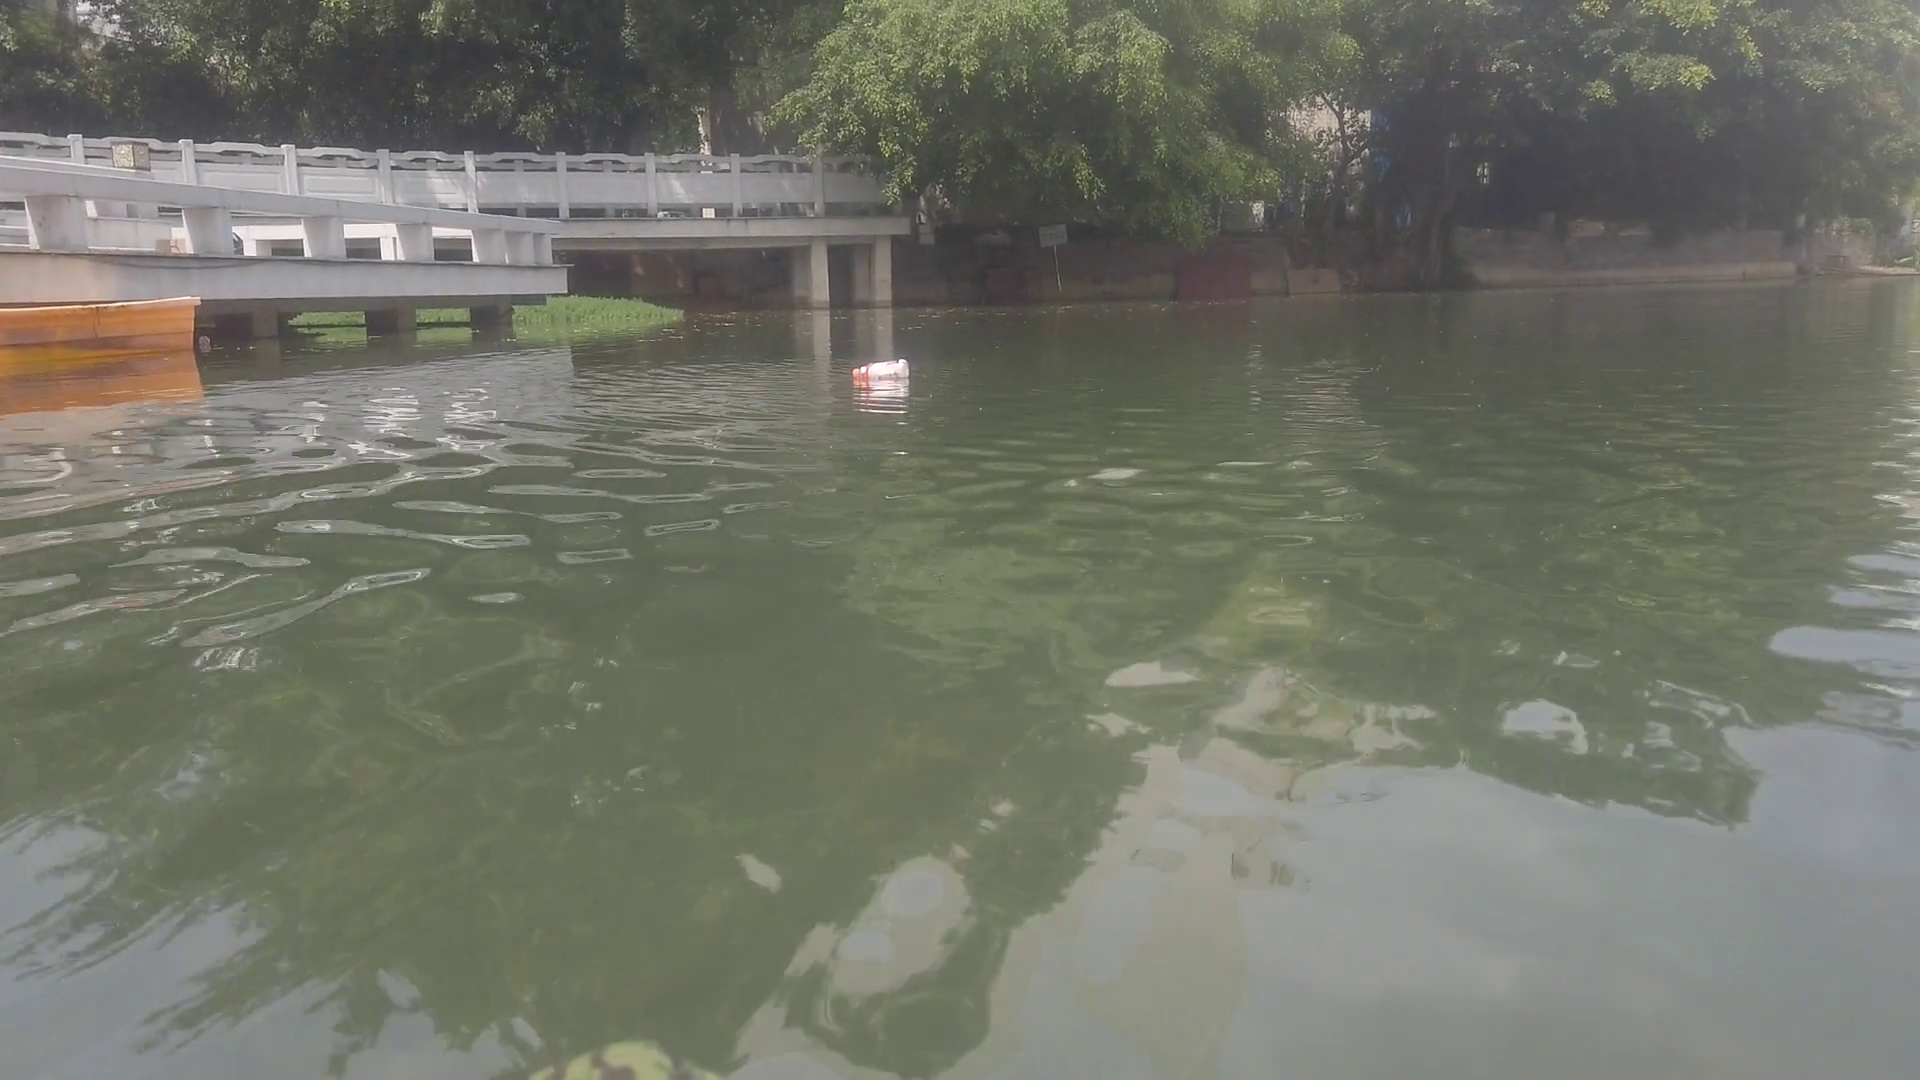bottle: (847, 360, 906, 376)
